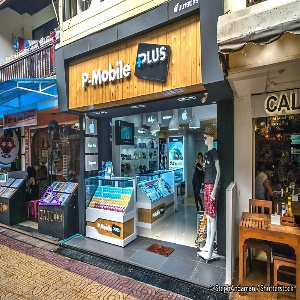triangle: (38, 186, 62, 208)
